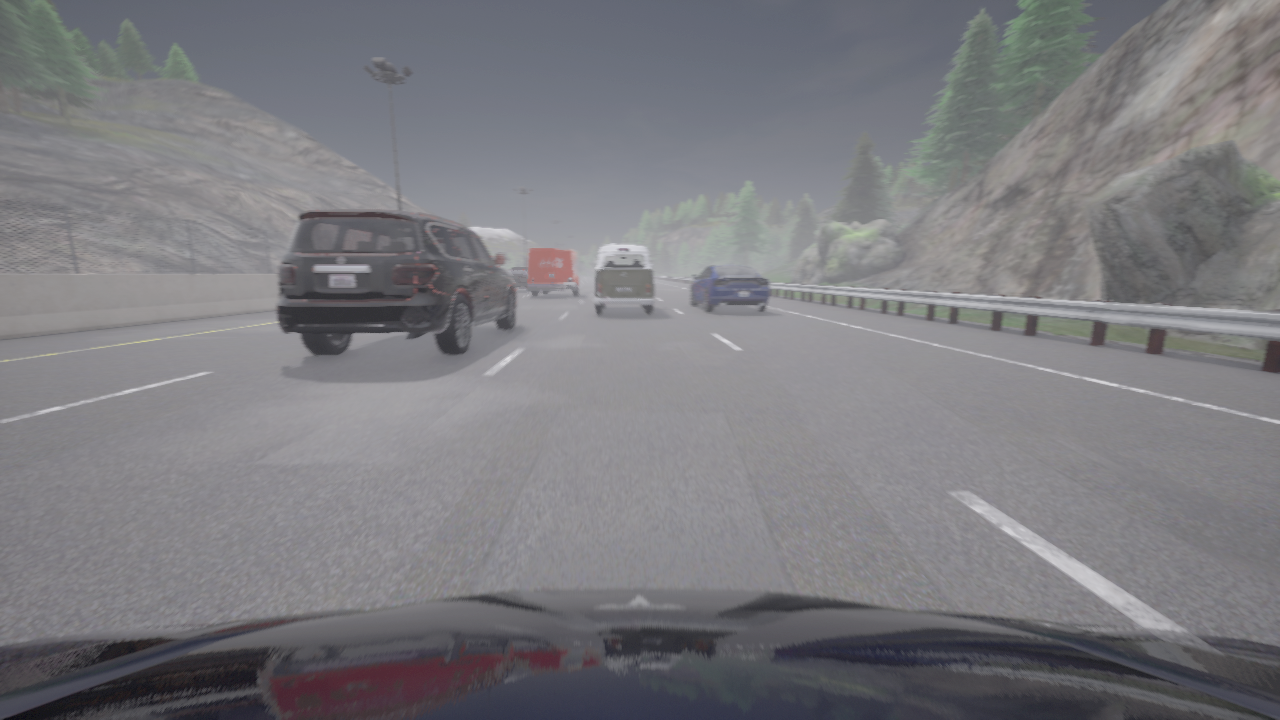cyclist: (0, 588, 1279, 719), (277, 210, 516, 355), (593, 244, 654, 313), (691, 263, 769, 311), (528, 248, 582, 296), (509, 267, 530, 291)
